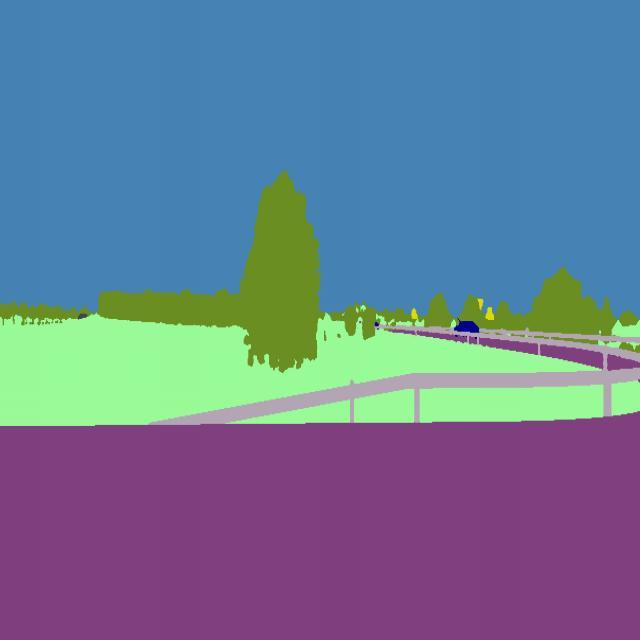safe: (448, 314, 485, 344)
